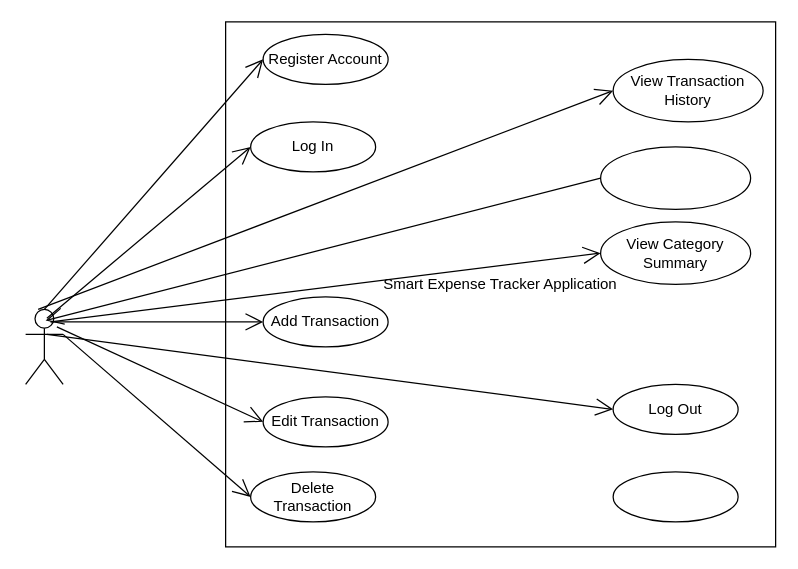
The diagram is 798 pixels wide and 569 high, and some of its shapes have lost their labels. Each missing label, with the centre of its shape:
Categorize Transaction: the point at 675,496
User: the point at 43,346
View Balance: the point at 675,177
